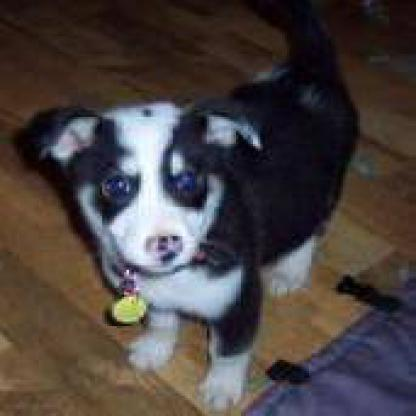dog: (38, 100, 353, 382)
